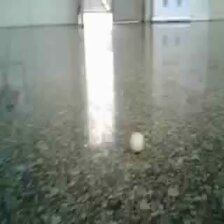w: (128, 131, 146, 154)
